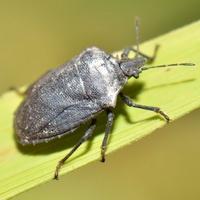insect: (0, 91, 88, 199), (123, 20, 199, 119), (106, 96, 165, 153), (60, 112, 106, 174)
